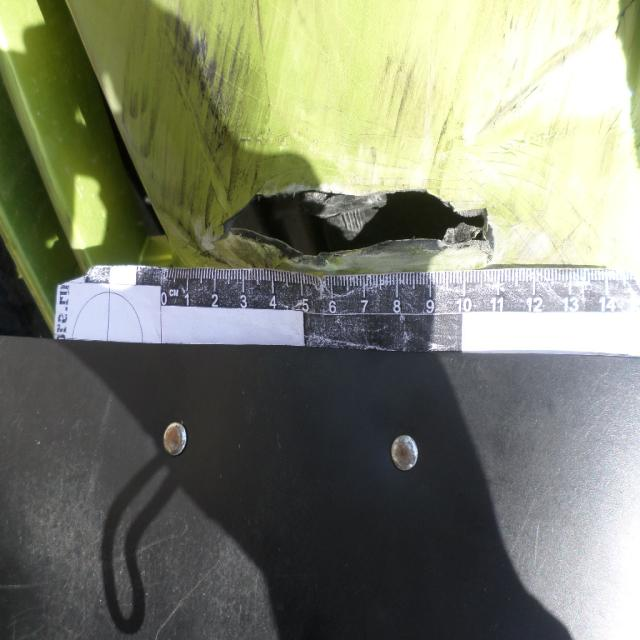Dechirure: (225, 177, 503, 254)
Rayure: (112, 52, 222, 246), (155, 0, 263, 195), (501, 124, 634, 262), (367, 48, 462, 190), (491, 0, 617, 104)
